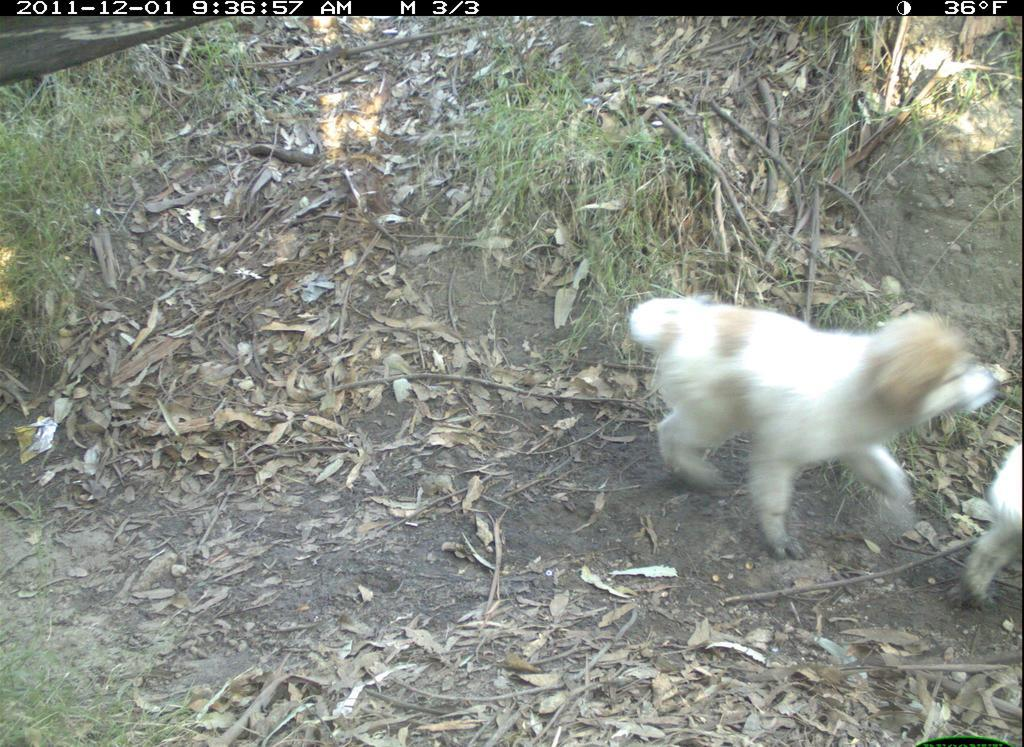dog: (629, 283, 1004, 562), (954, 436, 1022, 603)
